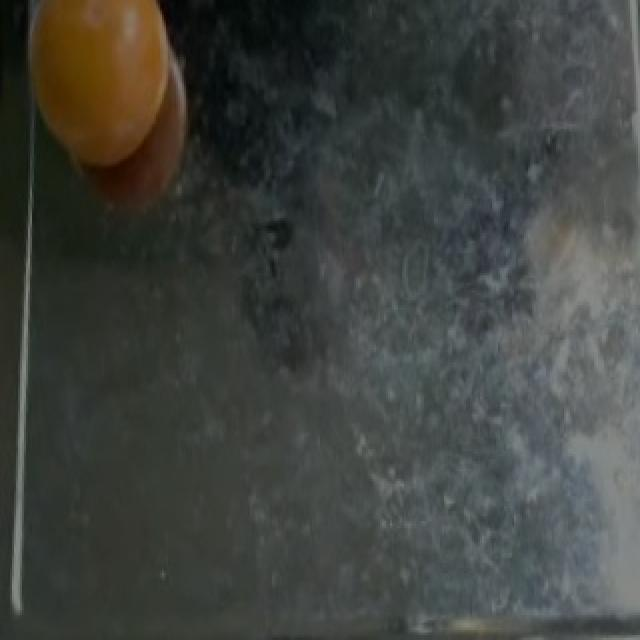Fruit: (4, 0, 192, 181)
